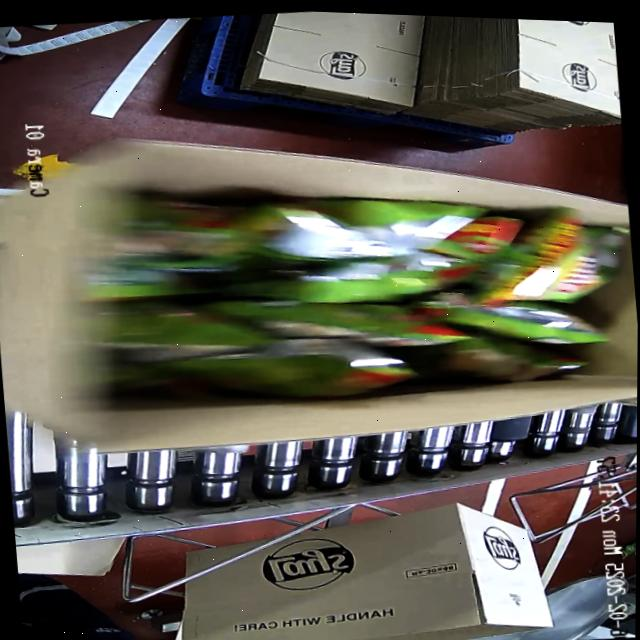YOGURT_HERB: (101, 153, 608, 432)
